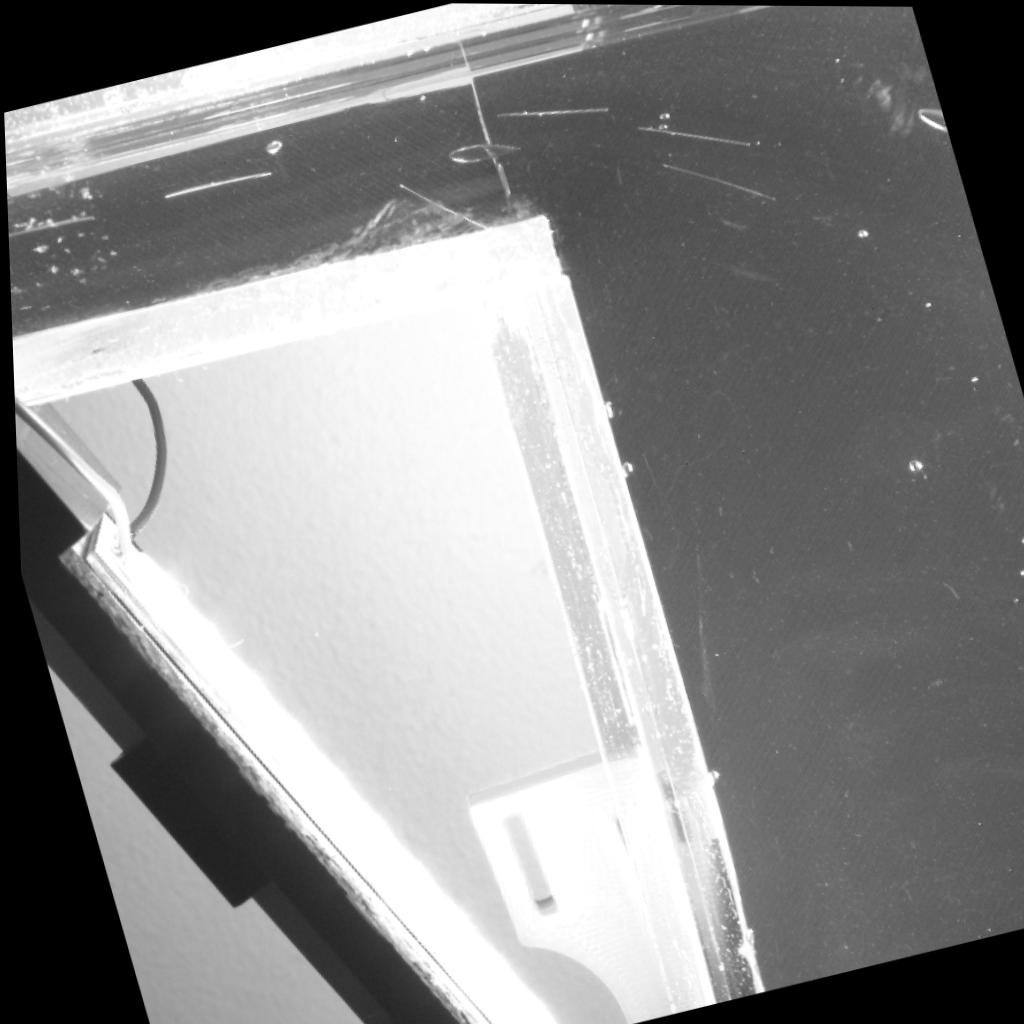Fiber: (394, 179, 492, 235), (654, 156, 777, 200), (161, 166, 276, 199), (633, 120, 752, 145), (7, 214, 89, 242), (492, 103, 609, 116)
